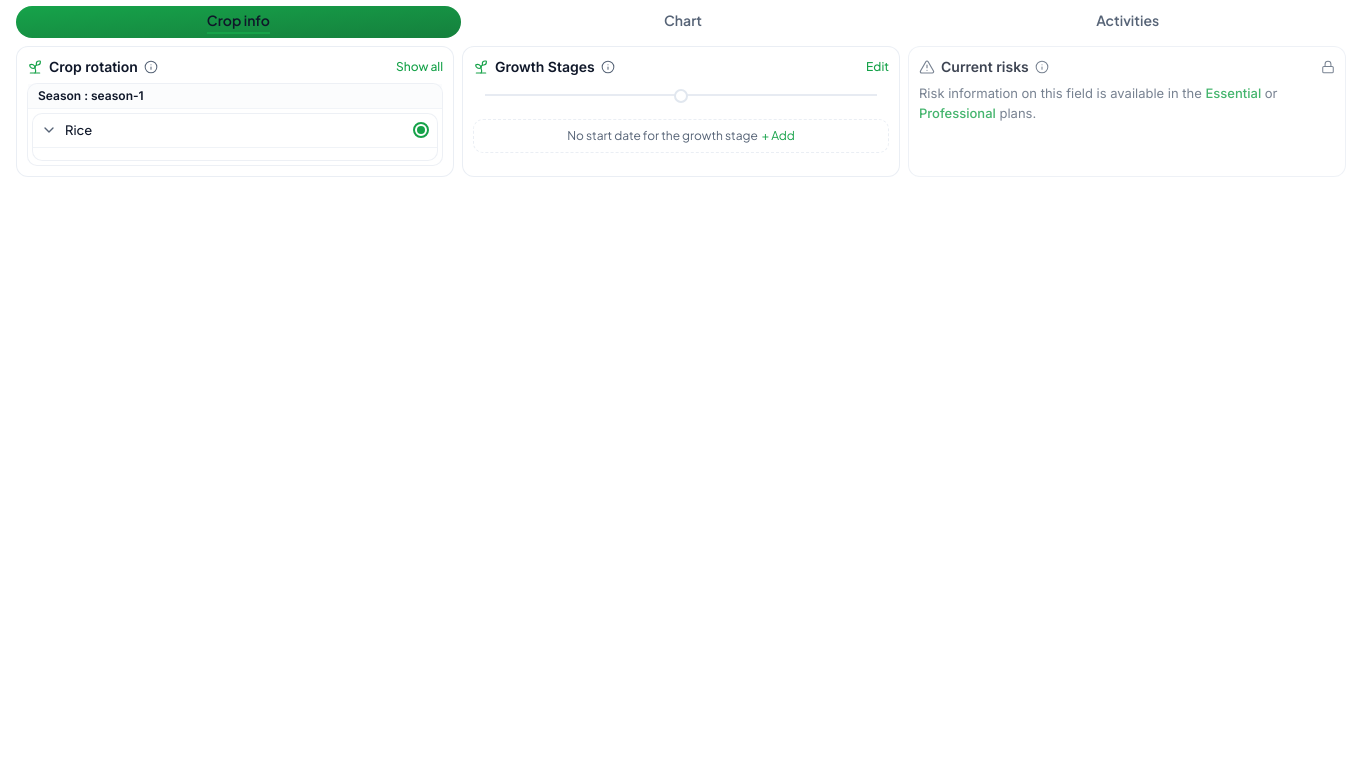
Test: IndexPanel tabbed analytics (Phase F) › opens the EOS-style growth stages editor for the selected crop cycle
Click the button "No start date for the growth stage+ Add" at point(681, 136), box [473,119,889,153]
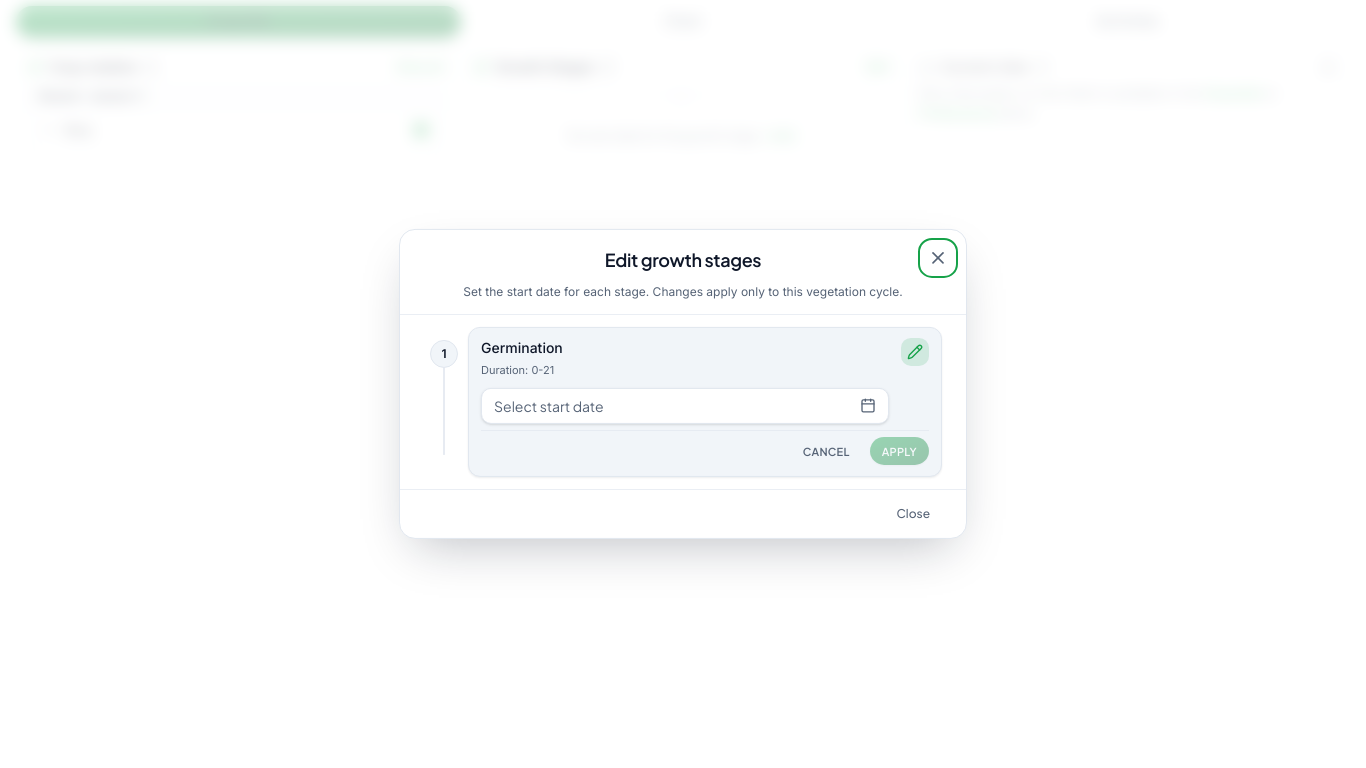
Check: the dialog "Edit growth stages" is shown, box [399,229,967,539]
Click the button "Close" at point(913, 514), box [884,498,942,530]
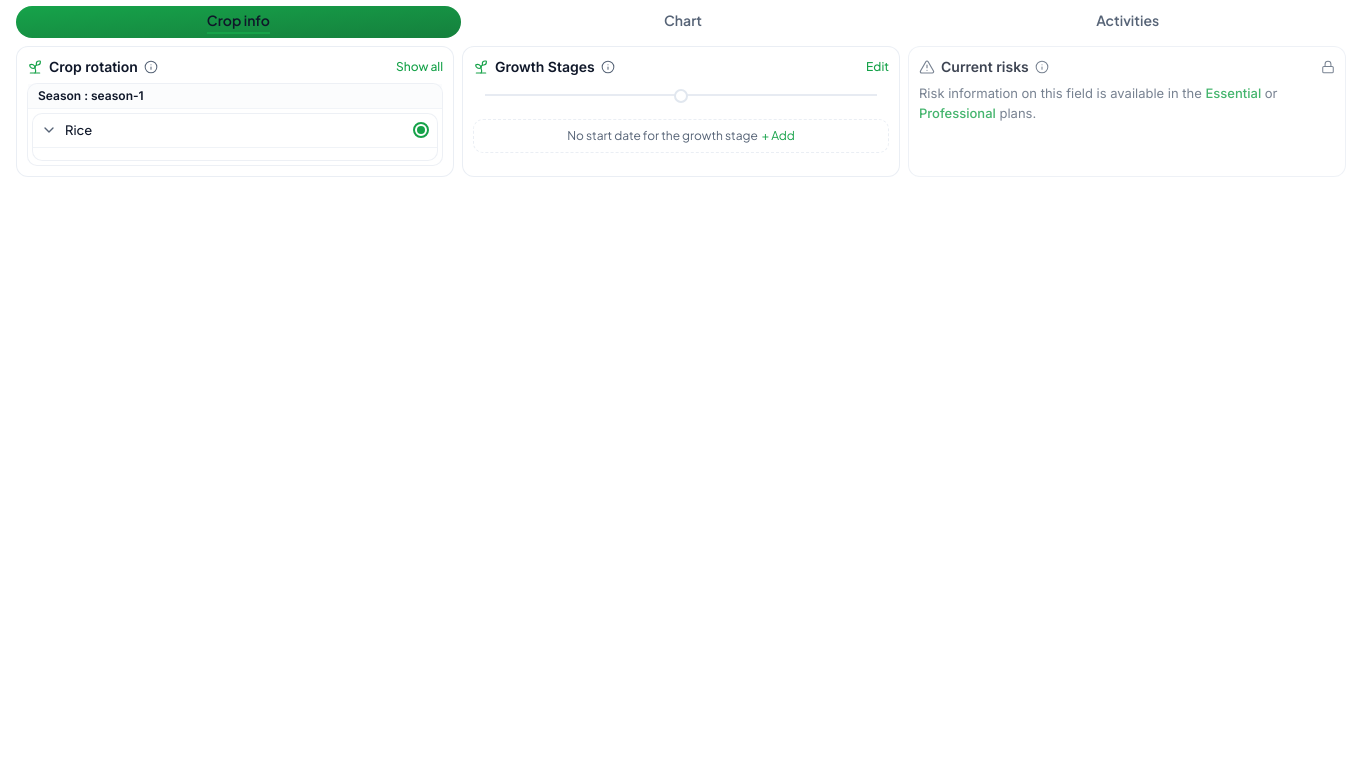
Click the button named "Select Germination" at point(681, 96), box [477,89,885,103]
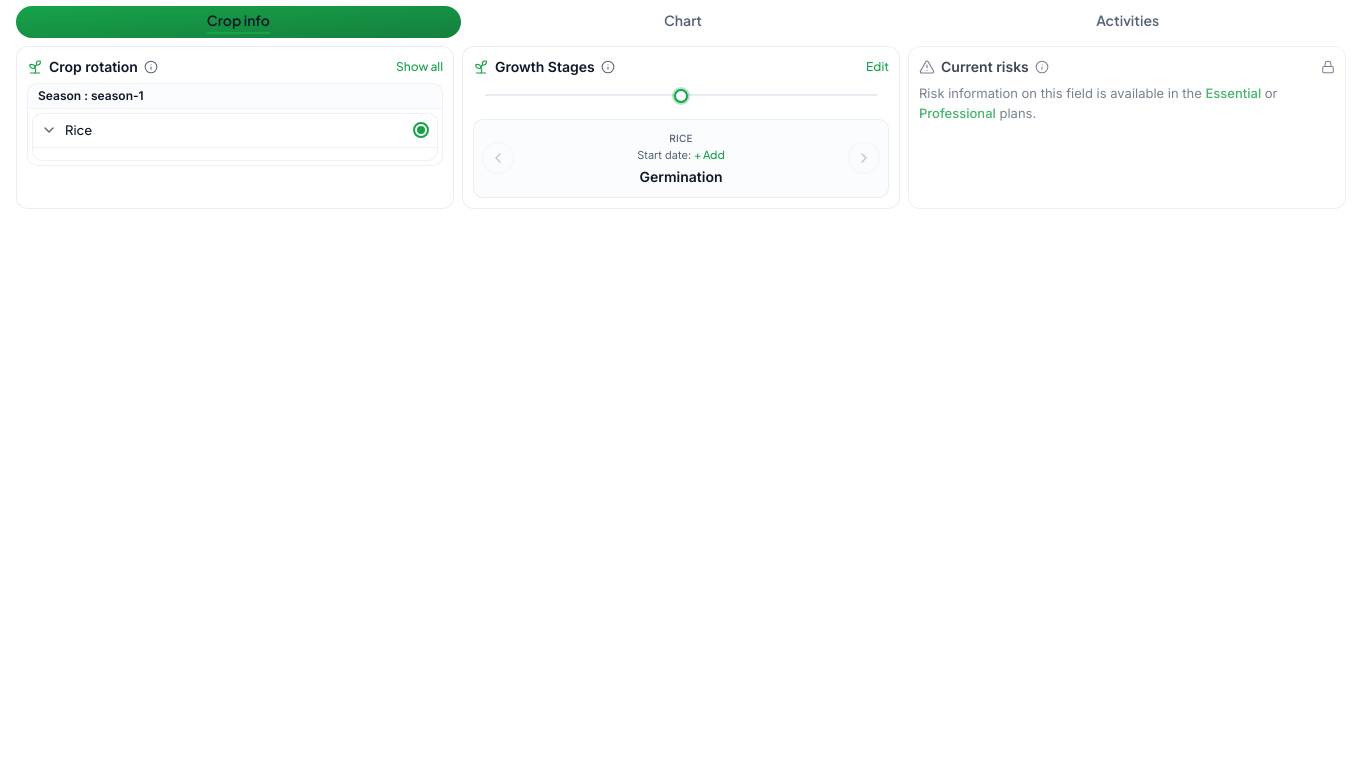
Check: the text with test id "growth-stage-selected-crop" reads "Rice", box [669,132,693,144]
Check: the element with test id "growth-stage-selected-info" shows "Germination", box [640,168,722,185]
Click the button "Edit" at point(878, 67), box [866,59,889,75]
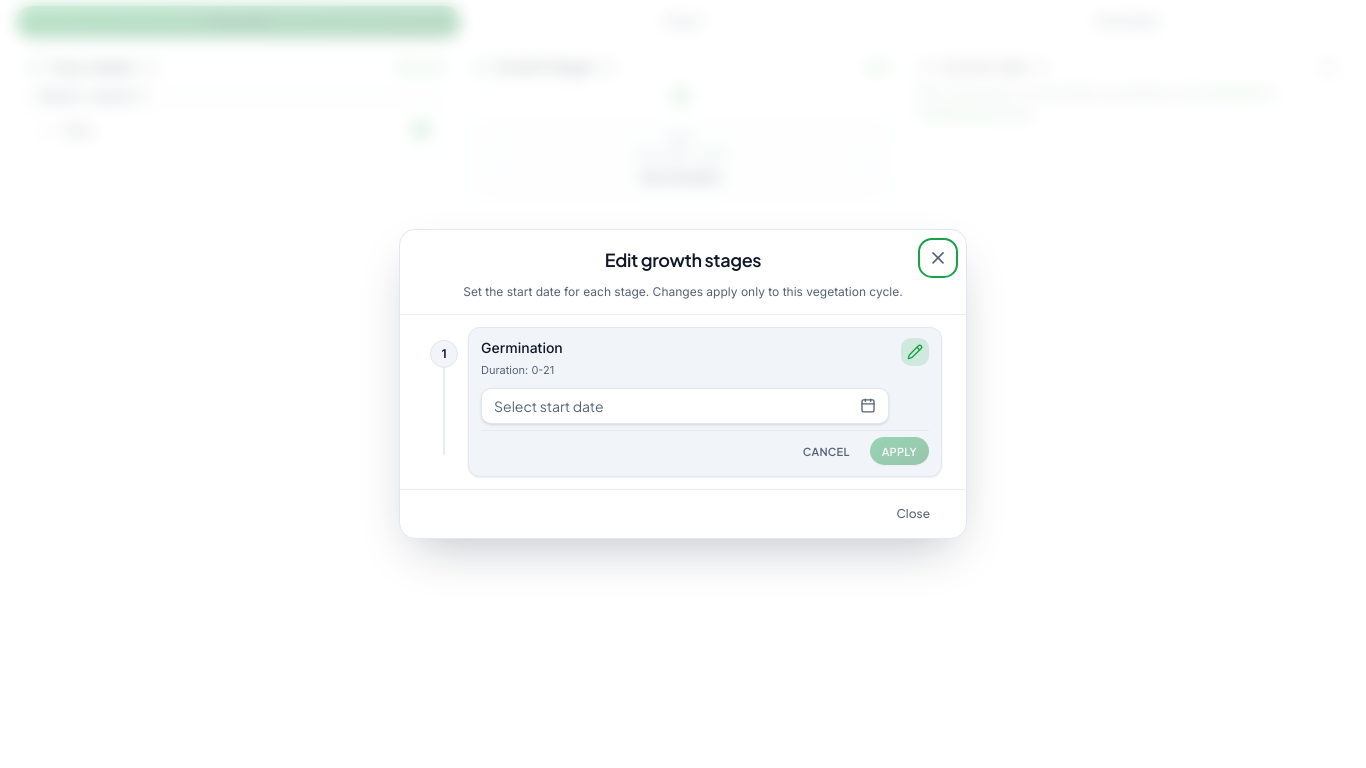
Check: the dialog "Edit growth stages" is shown, box [399,229,967,539]
Check: the button "Select start date" is shown, box [481,388,889,424]
